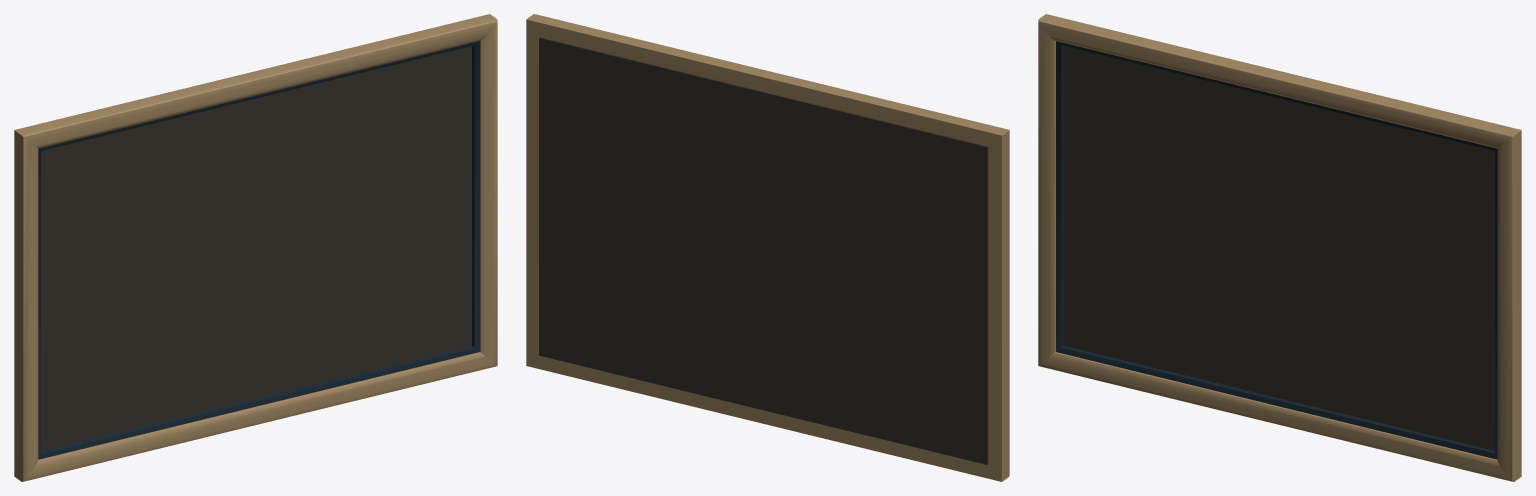
Rendered from sand-frame-only.glb.
3 renders of one model, left to right at view 1: azimuth 30°, elevation 25°; view 2: azimuth 150°, elevation 25°; view 3: azimuth 330°, elevation 25°, orthographic.
Visible parts, largest first — view 1: Rigid backing panel, Sand-colored stepped frame, Midnight inner lip; view 2: Rigid backing panel, Sand-colored stepped frame; view 3: Rigid backing panel, Sand-colored stepped frame, Midnight inner lip.
Part boxes in pixels (<box>): Rigid backing panel: <box>41,46,471,450</box>; Sand-colored stepped frame: <box>14,14,497,481</box>; Midnight inner lip: <box>38,41,479,459</box>; Rigid backing panel: <box>539,37,988,464</box>; Sand-colored stepped frame: <box>526,14,1009,481</box>; Rigid backing panel: <box>1064,46,1494,450</box>; Sand-colored stepped frame: <box>1038,14,1521,481</box>; Midnight inner lip: <box>1056,41,1497,459</box>.
Size of the model in its own units: 1.65 by 1.15 by 0.0605.
